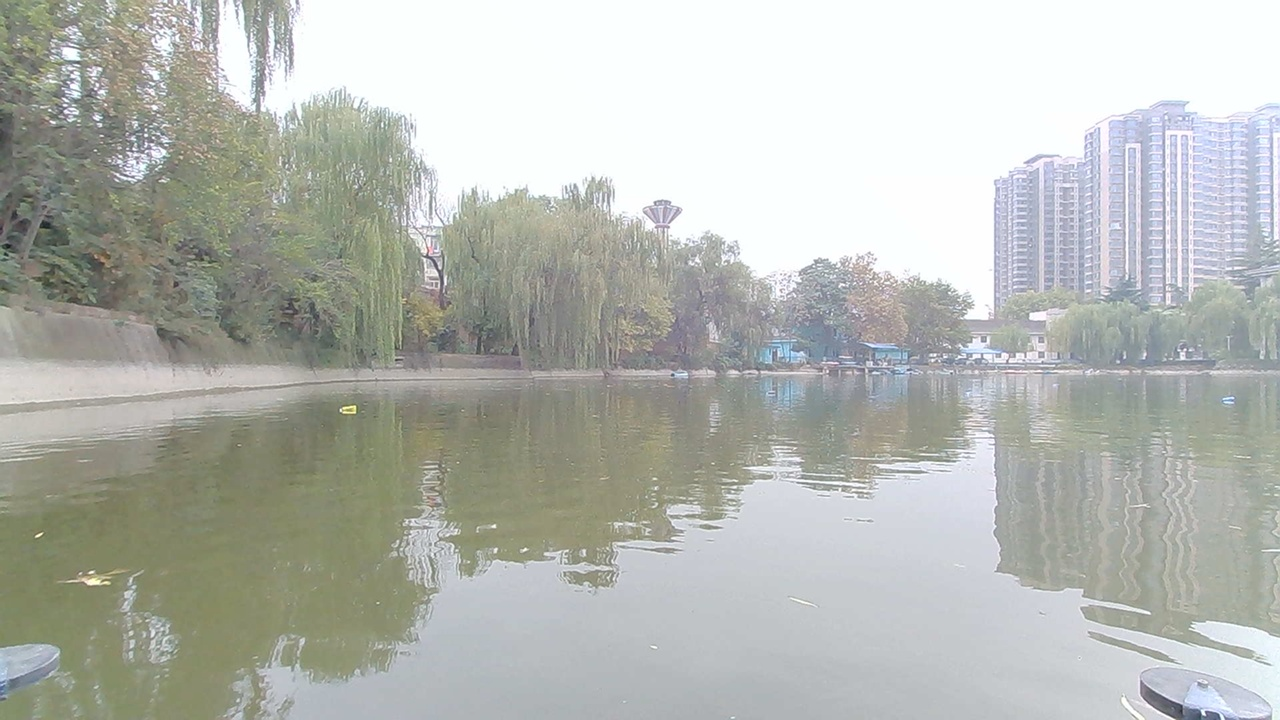bottle: (333, 397, 367, 420), (1217, 393, 1248, 416), (758, 386, 787, 401)
